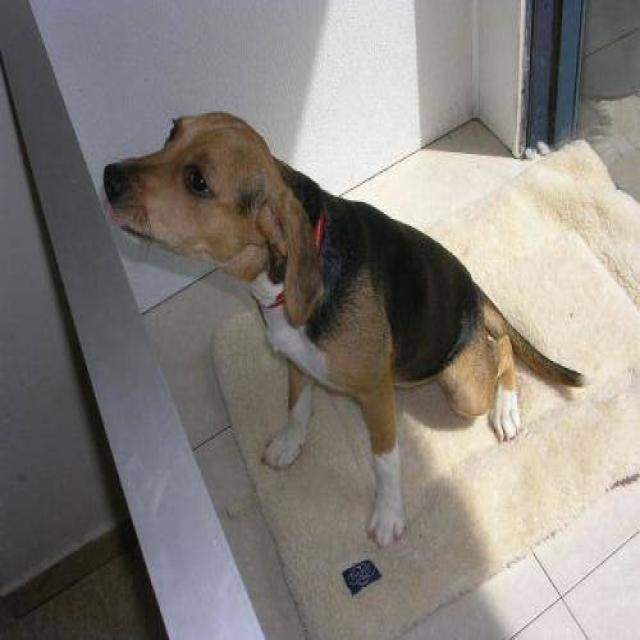dog: (101, 108, 586, 549)
